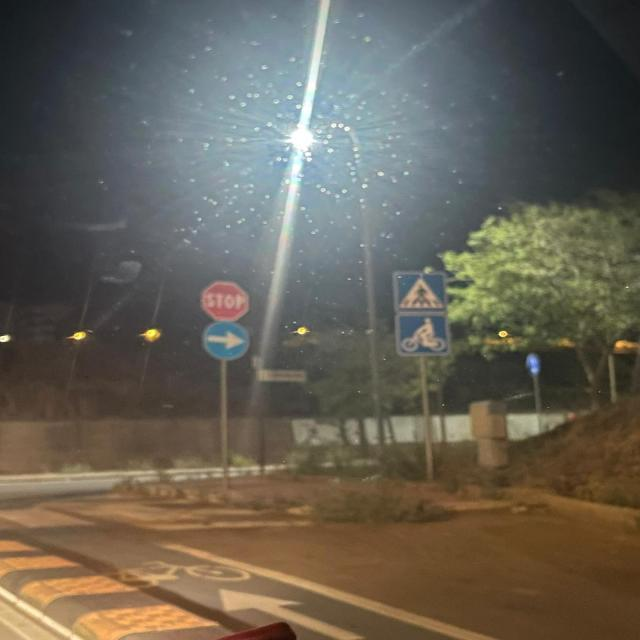info_crosswalk: (394, 272, 449, 313)
prio_stop: (201, 281, 251, 323)
